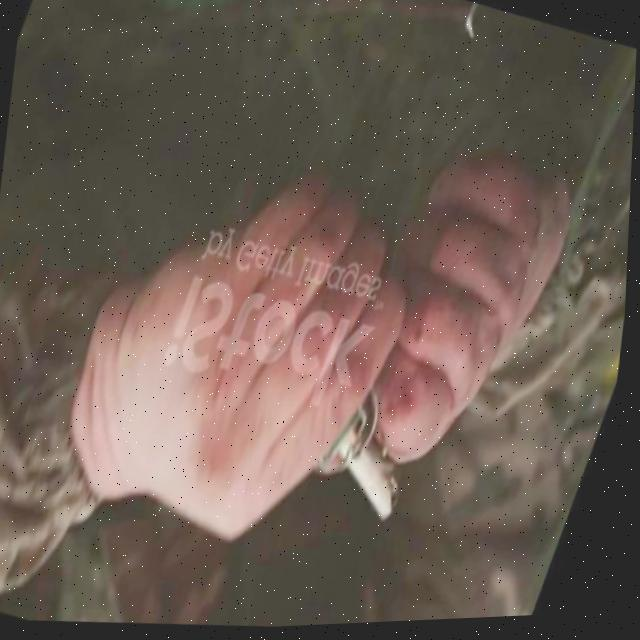grenade: (306, 381, 449, 538)
